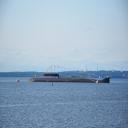submarine: (27, 74, 111, 83)
